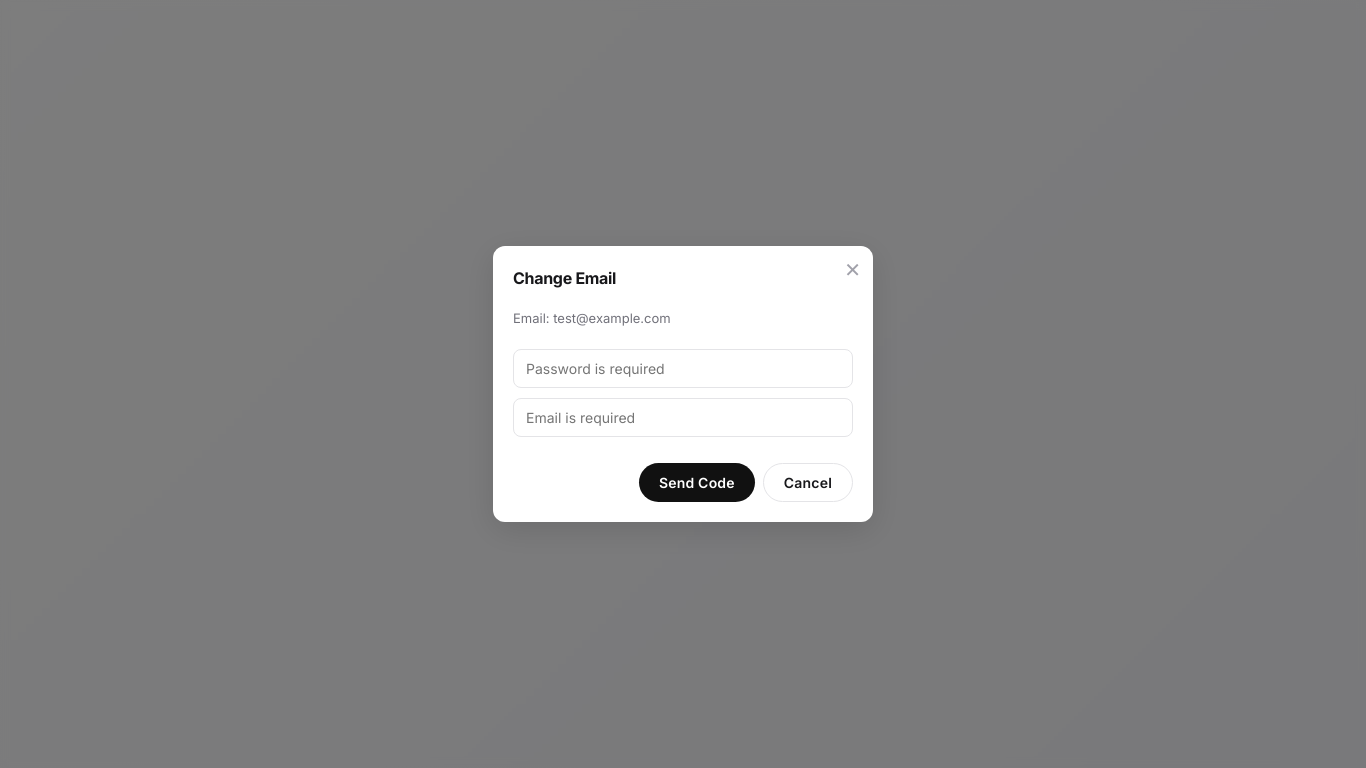
Test: ProfileModals › Change Email Modal › should show error when change email fails
Step 1. Type "password123" into the password field with placeholder "Password is required" → (683, 368), box [513,349,853,388]
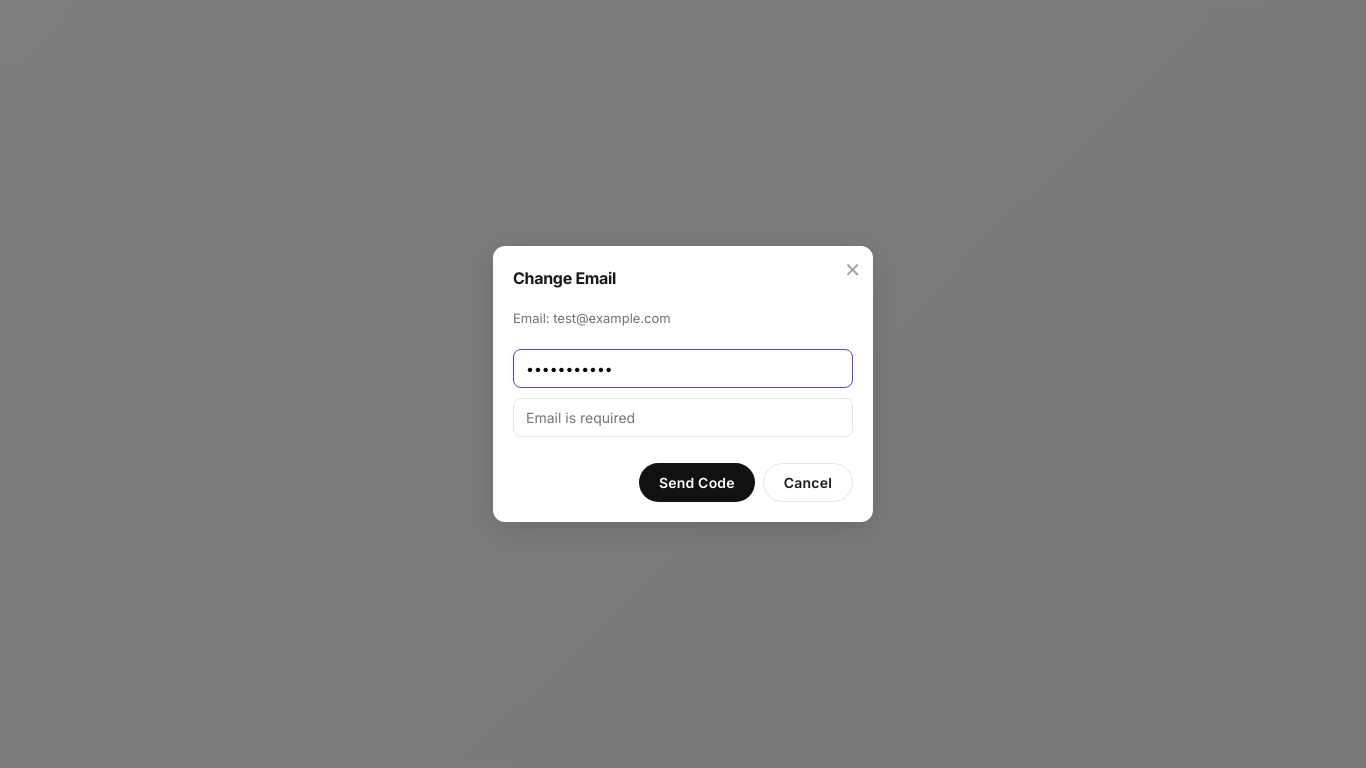
Step 2. Type "newemail@test.com" into the field with placeholder "Email is required" → (683, 417), box [513,398,853,437]
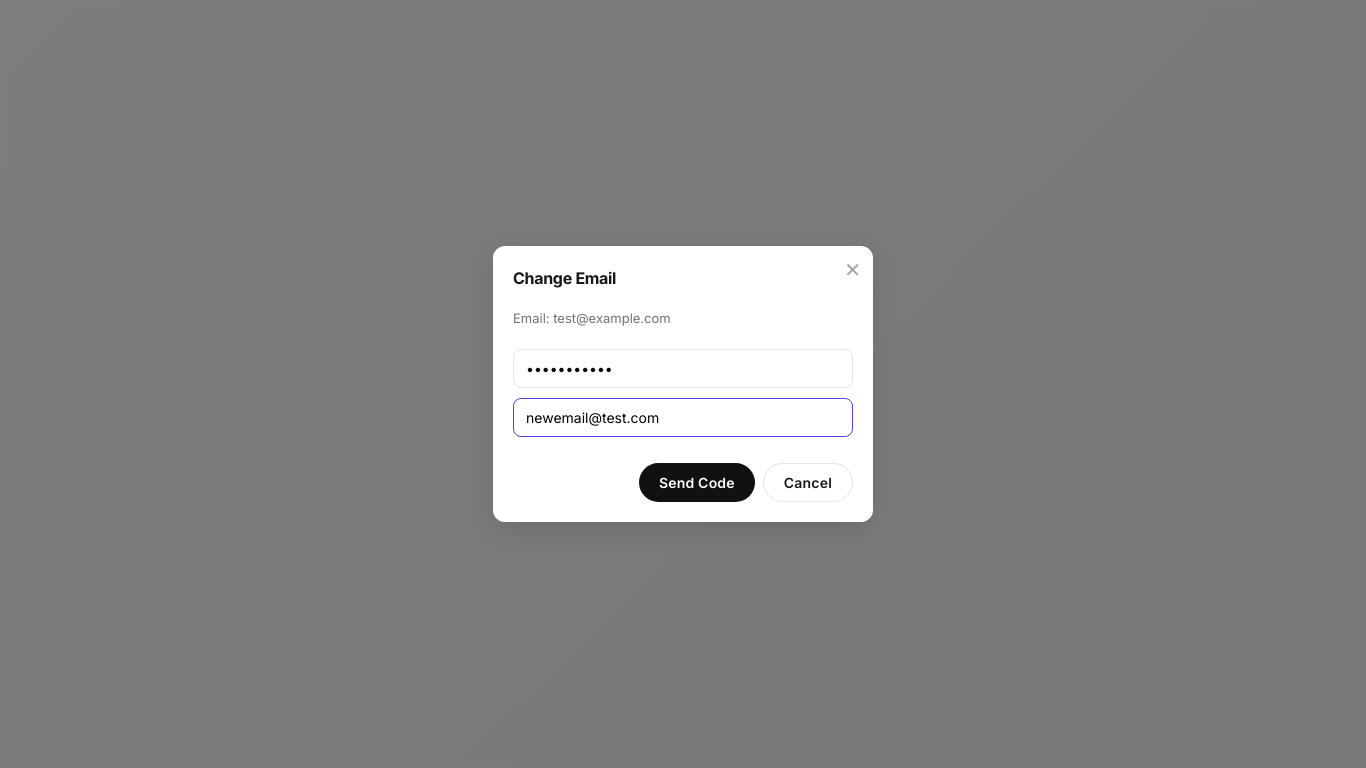
Step 3. Click the button "Send Code" → (697, 482), box [639,463,755,502]
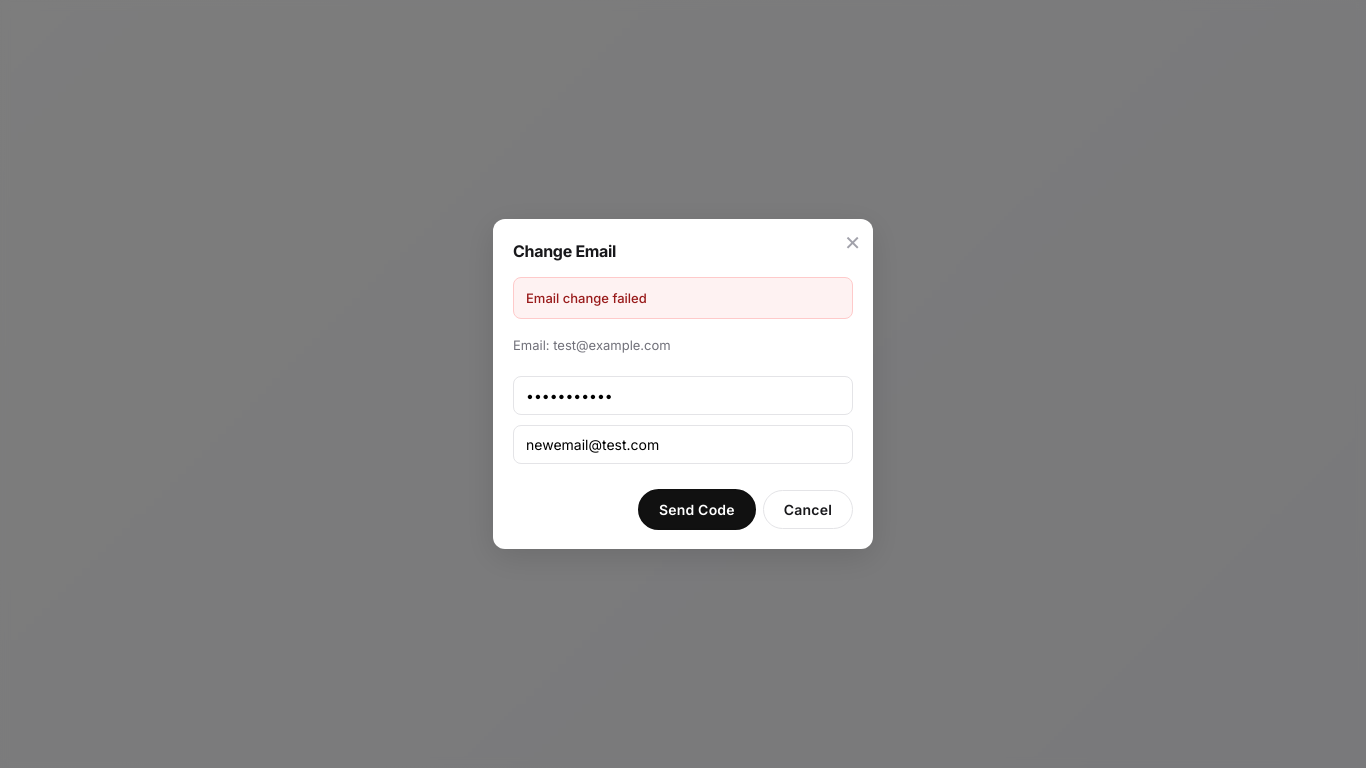
Expected: the text "Email change failed" is shown, [513,276,853,319]
